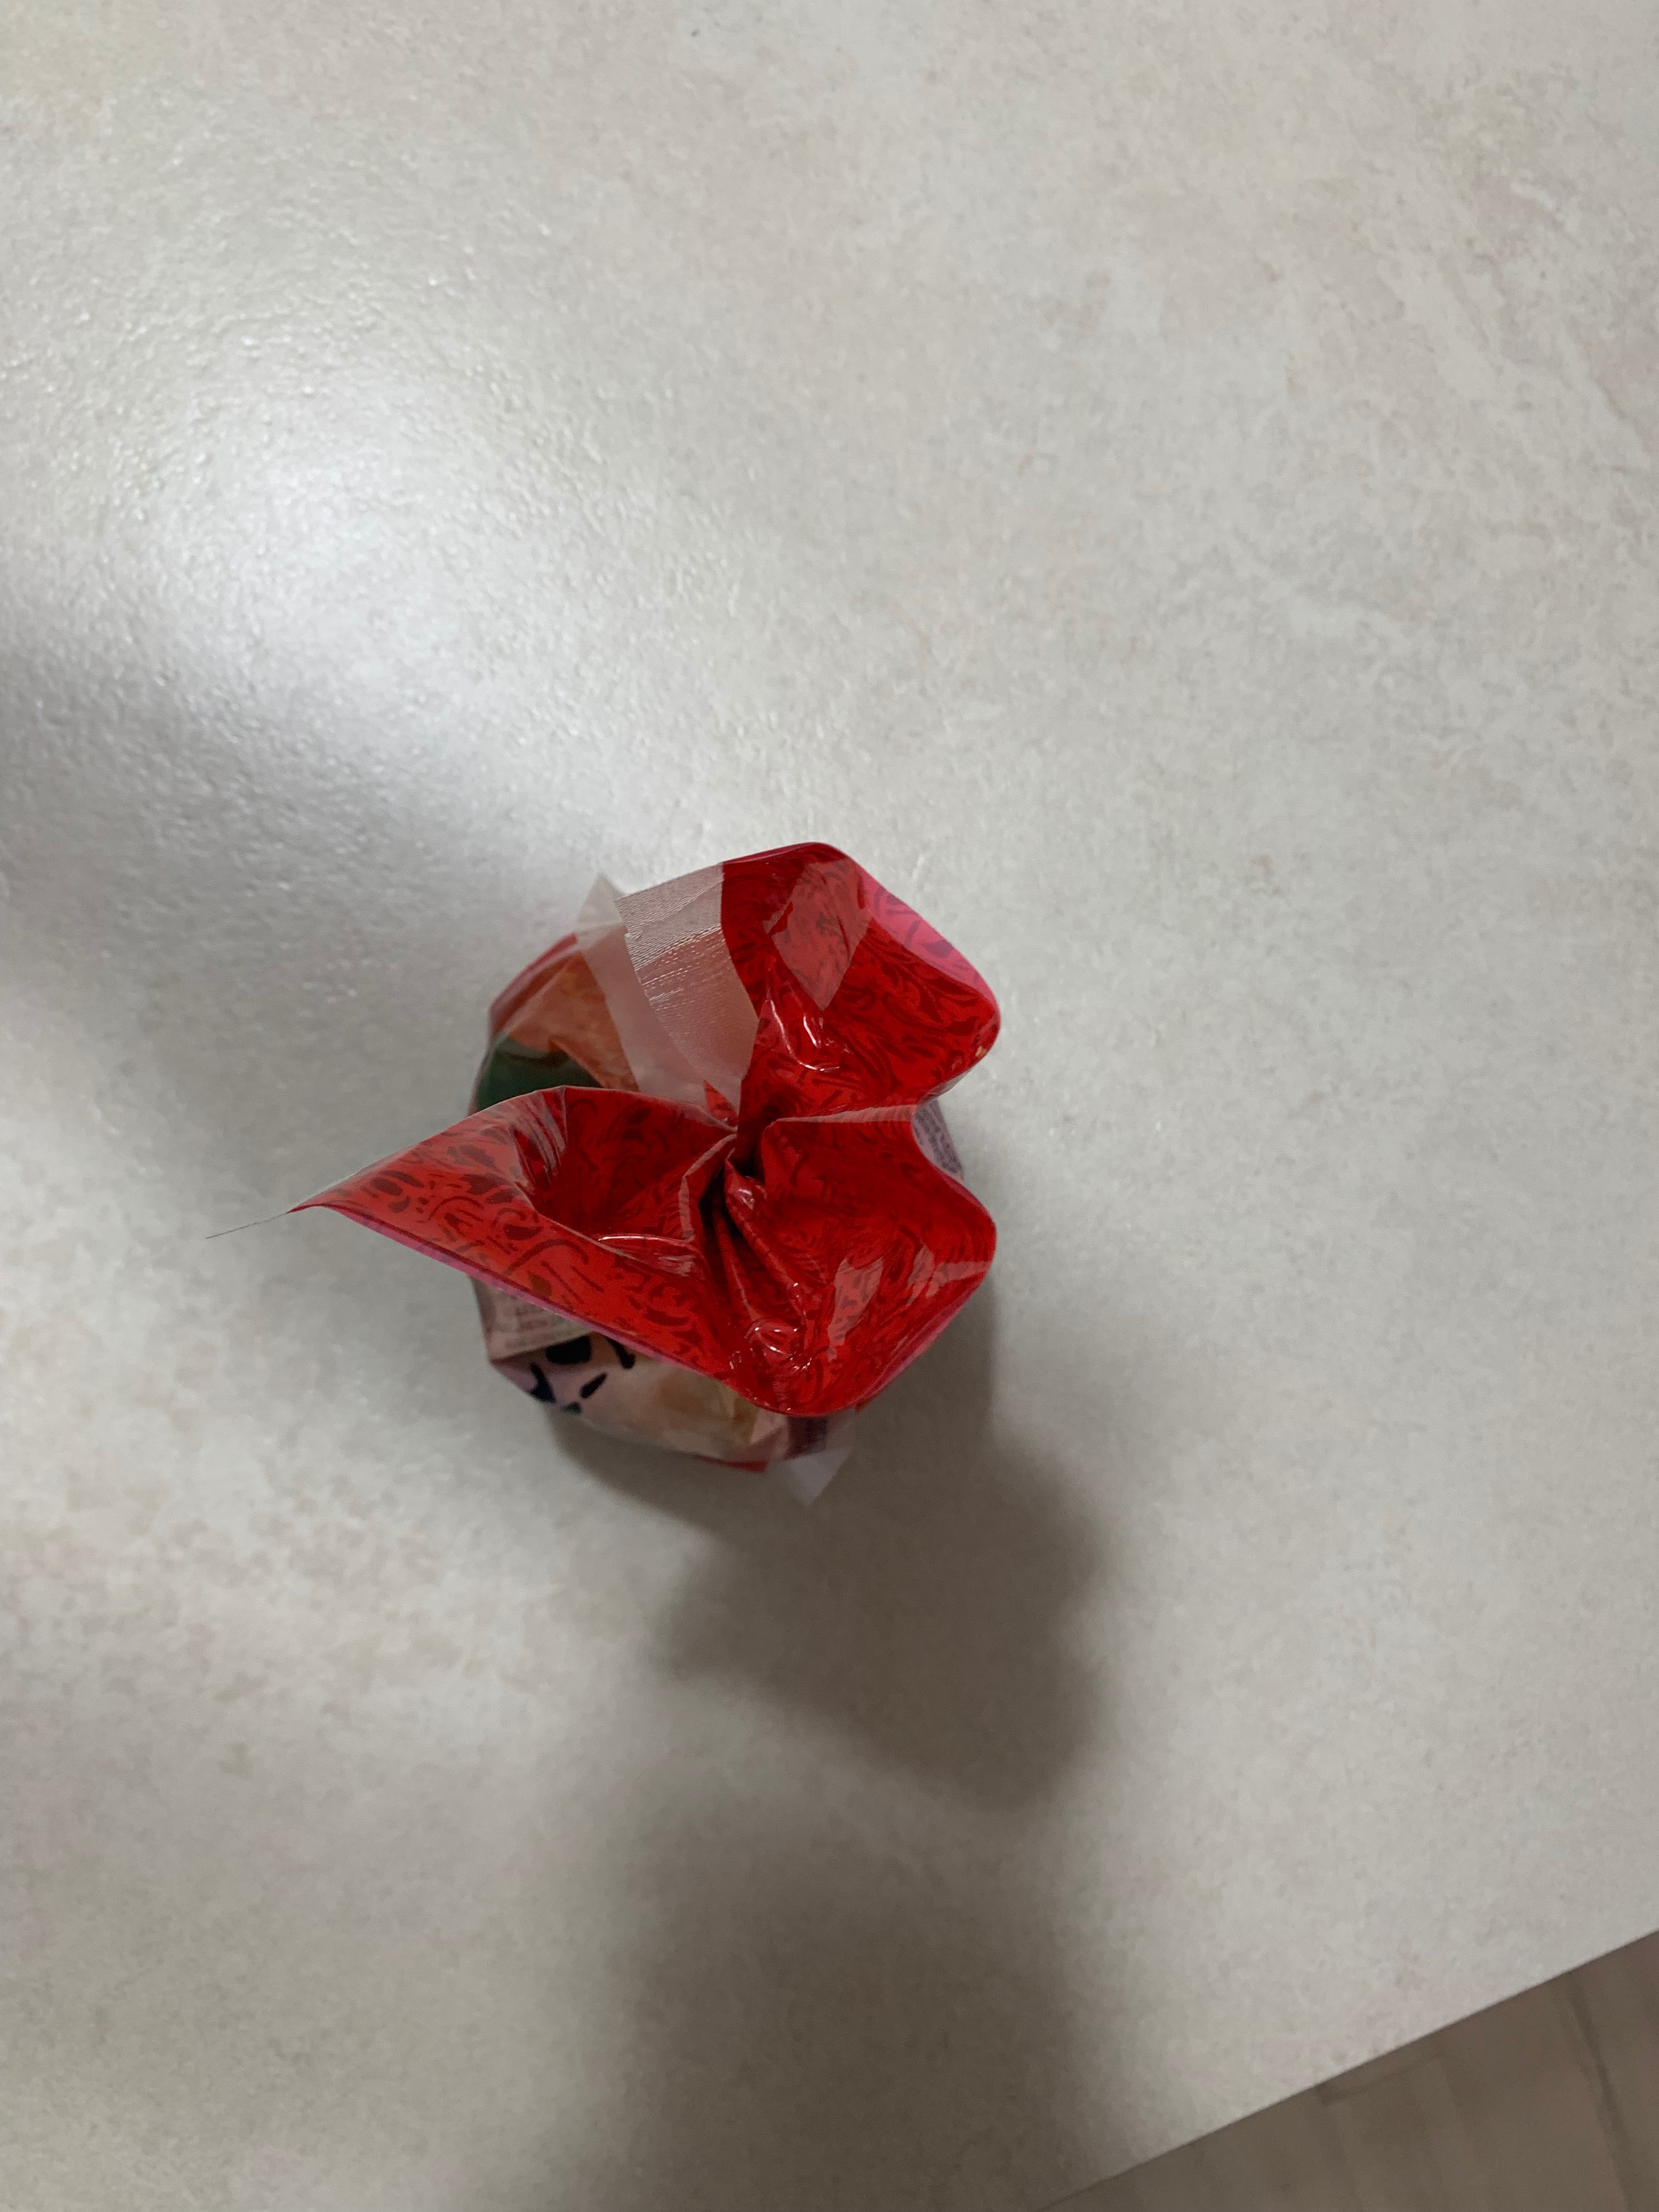kimchi: (331, 838, 1007, 1474)
